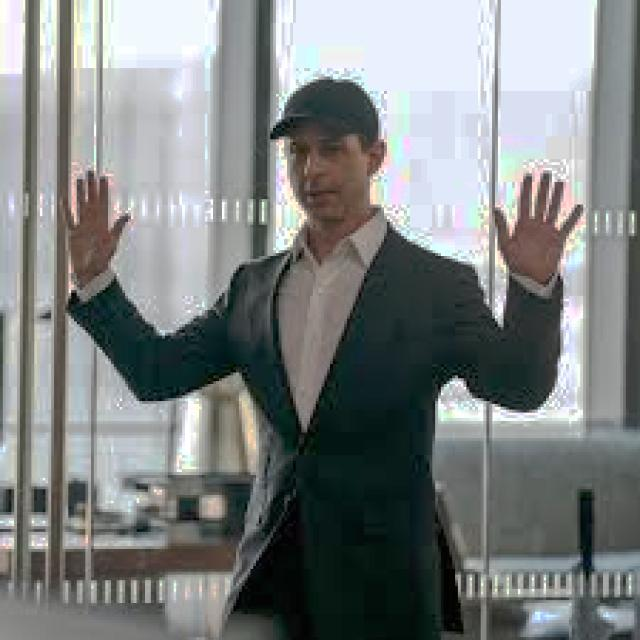TOPI: (262, 60, 381, 154)
